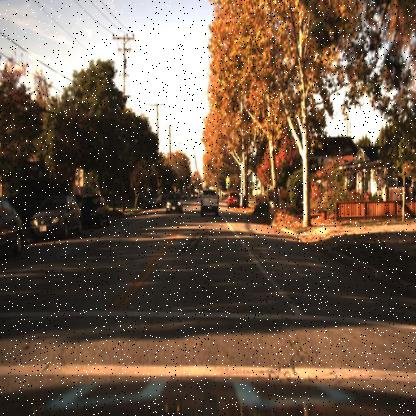car: (30, 194, 84, 240), (0, 196, 24, 260), (78, 192, 112, 232), (199, 186, 219, 217), (166, 191, 182, 212), (226, 192, 240, 209), (188, 190, 199, 202)
